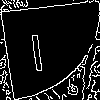I: (25, 24, 48, 72)
